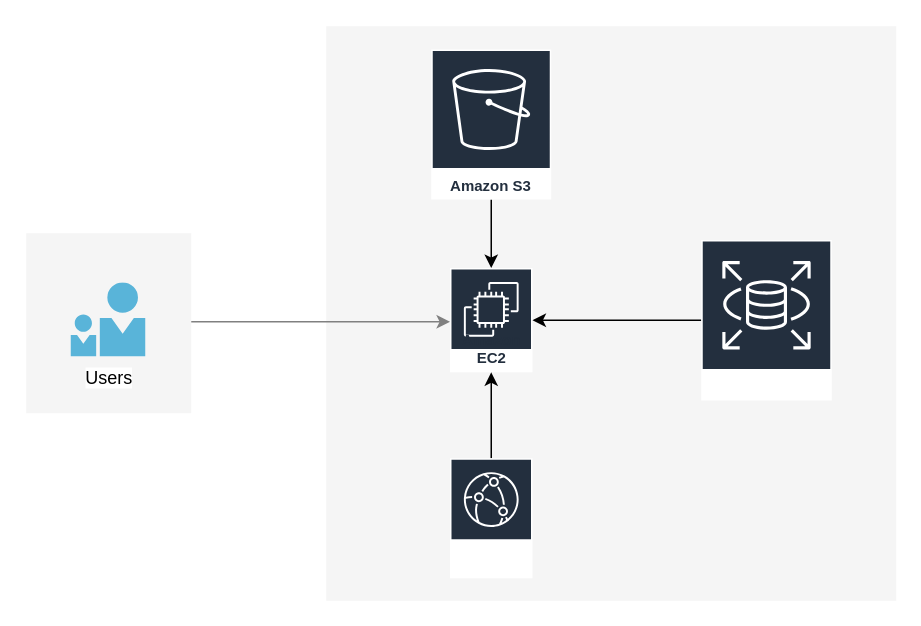
Some shapes in this 921 by 626 pixel diagram are drawn without their labels. Here are the shapes that lost their labels. From the top down, the centre of each, then its label:
At pixel 766 319: "Amazon RDS".
At pixel 490 517: "Amazon Cloudfront".
